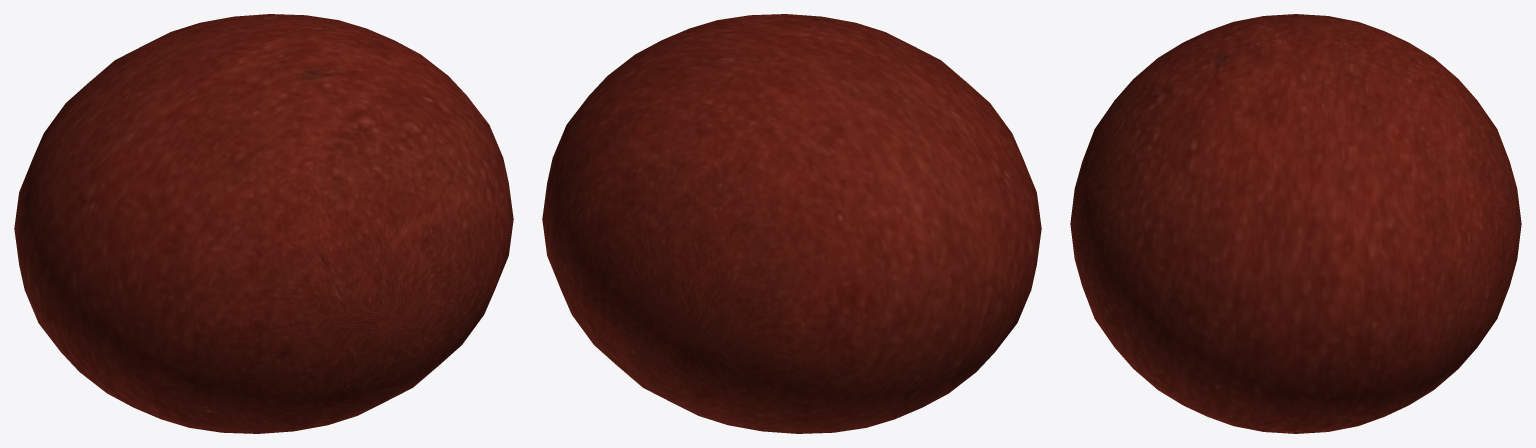
Rendered from seed.glb.
The picture shows the model from 3 angles, left to right: view 1: azimuth 30°, elevation 25°; view 2: azimuth 150°, elevation 25°; view 3: azimuth 270°, elevation 25°; orthographic projection. The views are drawn at different scales.
Parts seen in each view (by area): view 1: Seed; view 2: Seed; view 3: Seed.
Part boxes in pixels (x1,y1,x2,y2): Seed: (14, 14, 513, 433); Seed: (542, 14, 1041, 433); Seed: (1070, 14, 1521, 433).
Size of the model in its own units: 0.022 by 0.0176 by 0.0198.
1 material, 1 textured.
